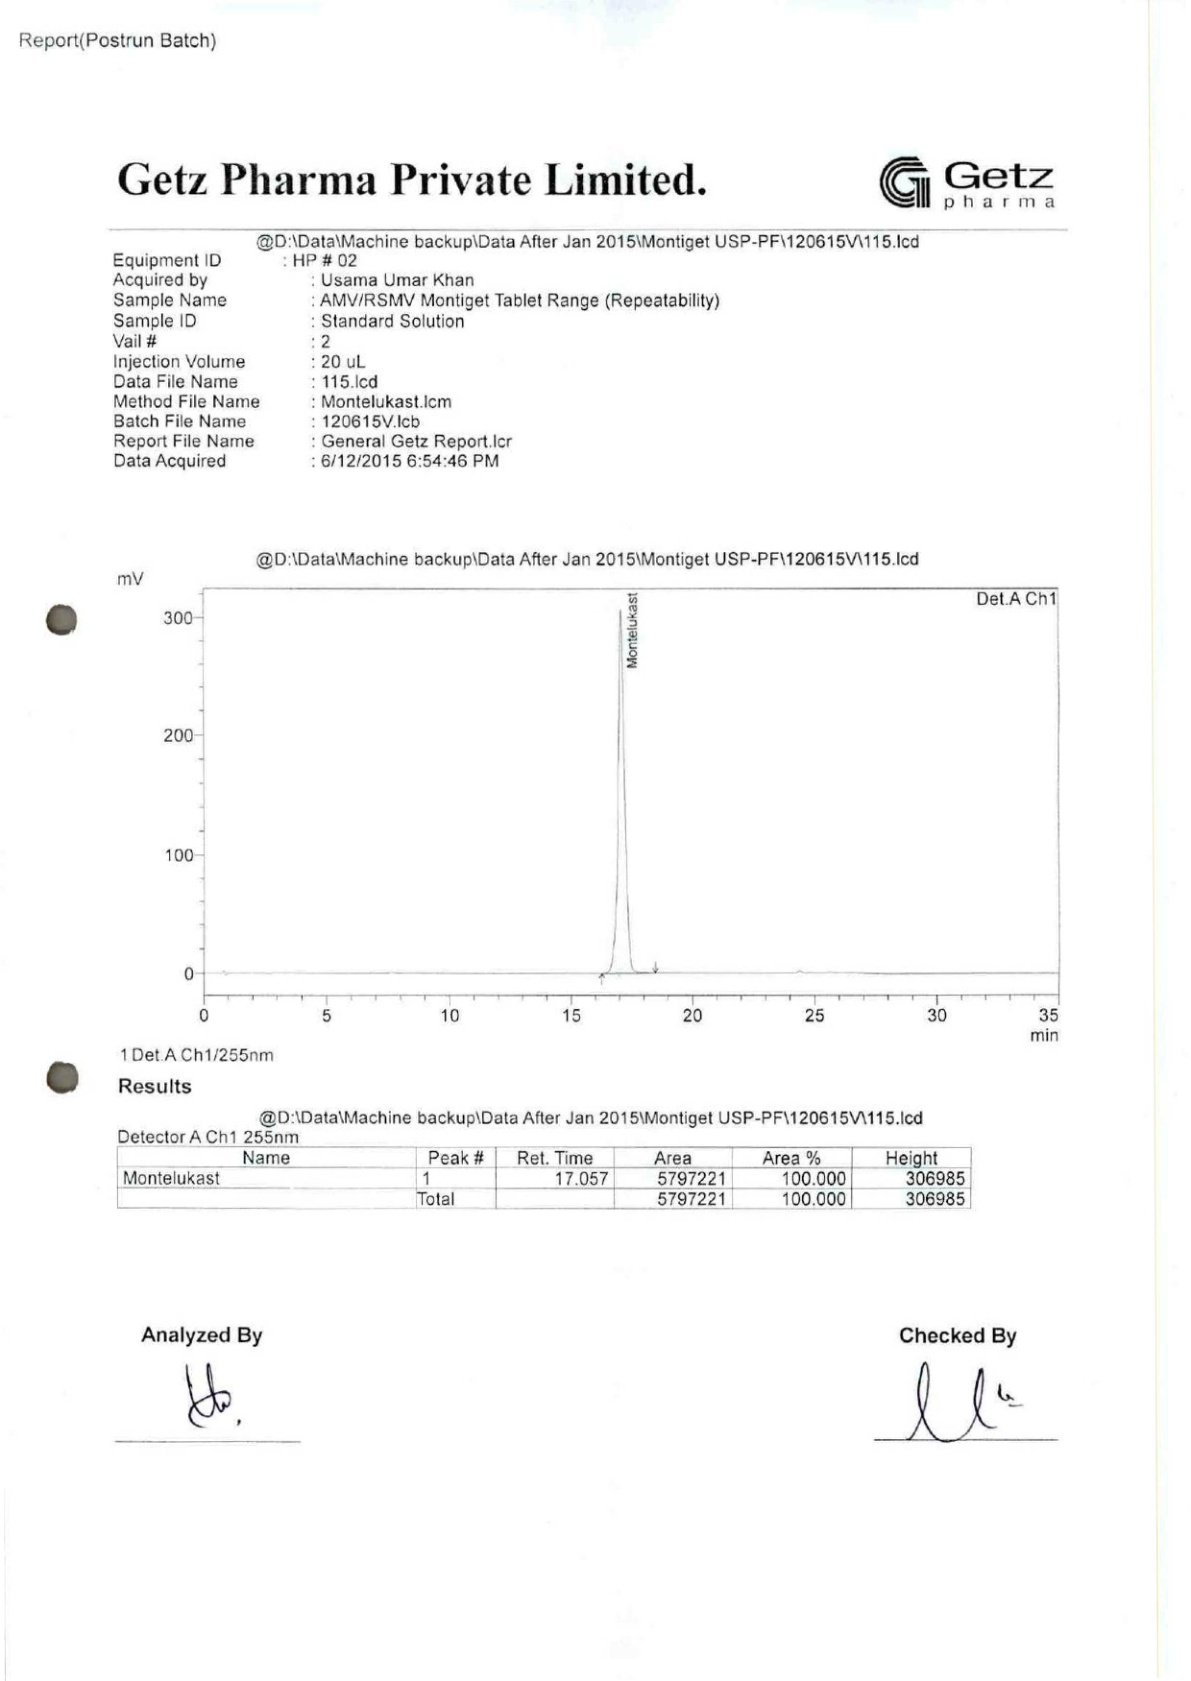full_lined: (116, 1145, 972, 1208)
nolines: (110, 250, 721, 471)
